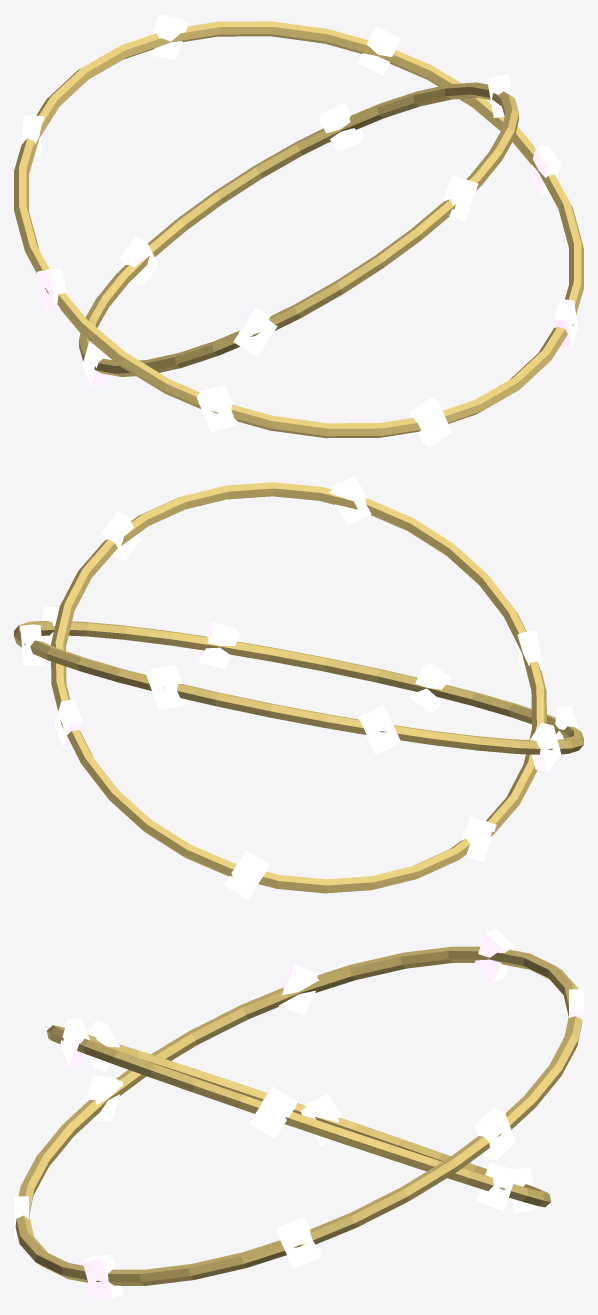
File: seal.glb
3 views of the same model, one above another, from view 1: azimuth 30°, elevation 25°; view 2: azimuth 150°, elevation 25°; view 3: azimuth 270°, elevation 25° (orthographic). The views are drawn at different scales.
Parts seen in each view (by area): view 1: seal_rings; view 2: seal_rings; view 3: seal_rings.
Boxes of the visible parts, x1,y1,x2,y2 form: seal_rings: (14, 14, 583, 447); seal_rings: (14, 476, 583, 899); seal_rings: (14, 928, 583, 1300).
Size of the model in its own units: 0.452 by 0.2022 by 0.4191.
